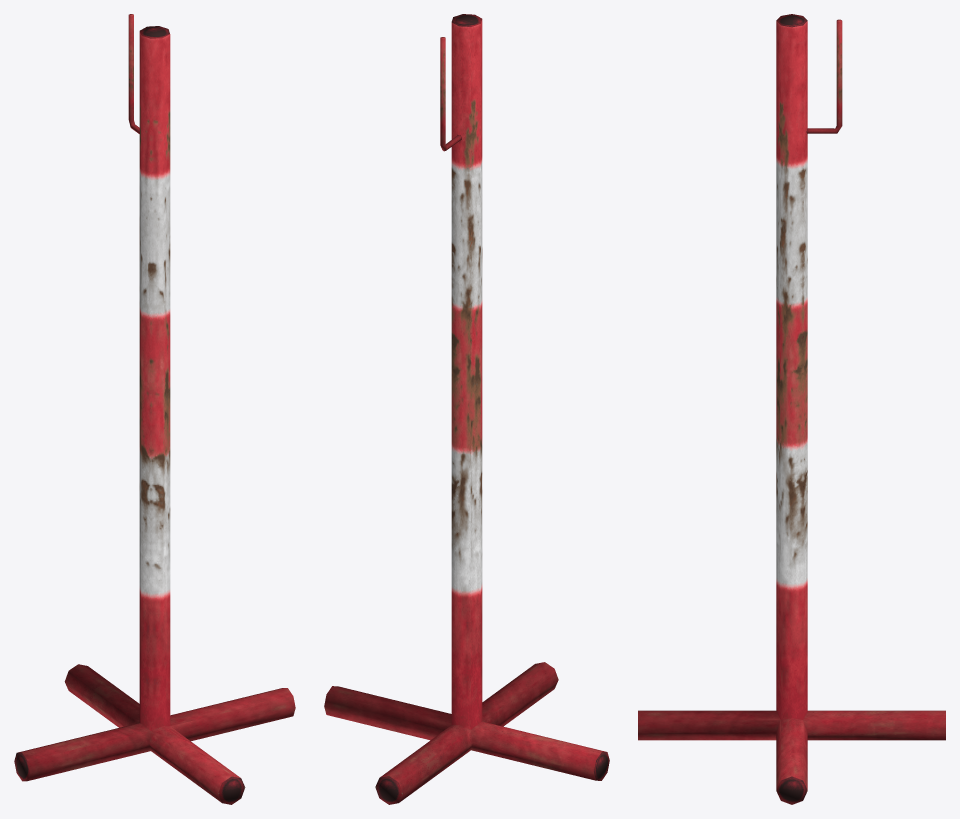
Rendered from road_post.glb.
3 renders of one model, left to right at view 1: azimuth 30°, elevation 25°; view 2: azimuth 150°, elevation 25°; view 3: azimuth 270°, elevation 25°, orthographic.
Visible parts, largest first — view 1: Barierka_Slupek_0; view 2: Barierka_Slupek_0; view 3: Barierka_Slupek_0.
Part boxes in pixels (box(x1,y1,x2,y2)): Barierka_Slupek_0: box(14, 14, 295, 804); Barierka_Slupek_0: box(324, 14, 609, 804); Barierka_Slupek_0: box(638, 14, 945, 804).
Size of the model in its own units: 0.39 by 1 by 0.39.
1 material, 1 textured.
